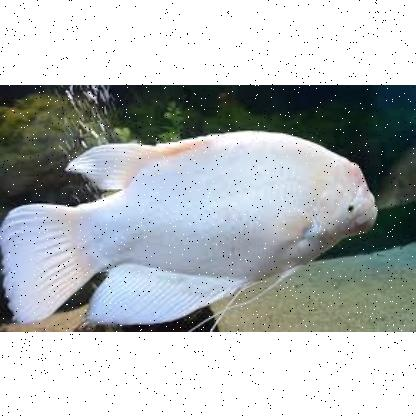gurame: (0, 128, 378, 330)
